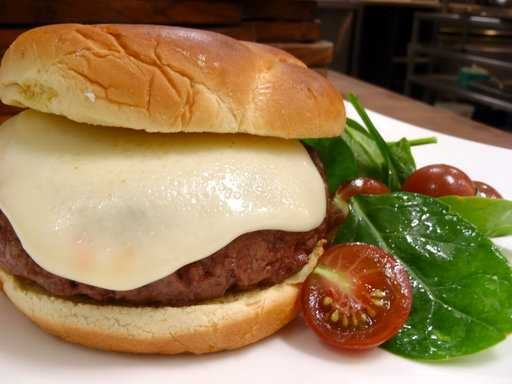hamburger: (3, 22, 374, 349)
